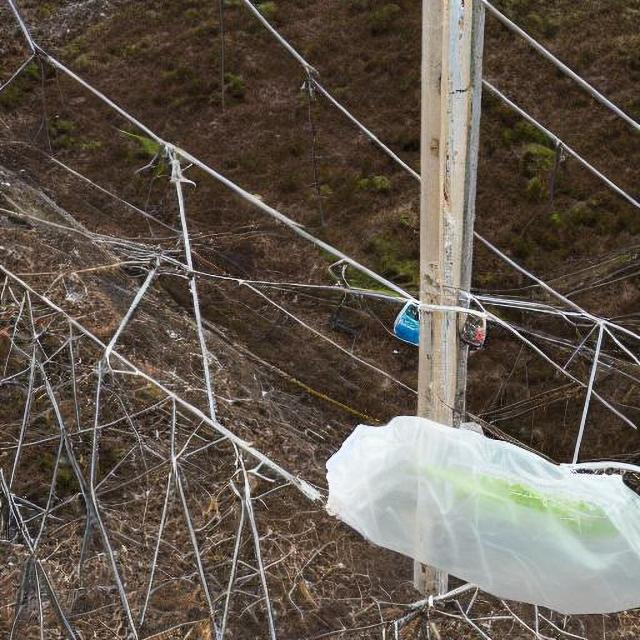plastic bag: (302, 393, 630, 614), (379, 292, 425, 351), (451, 300, 490, 358)
